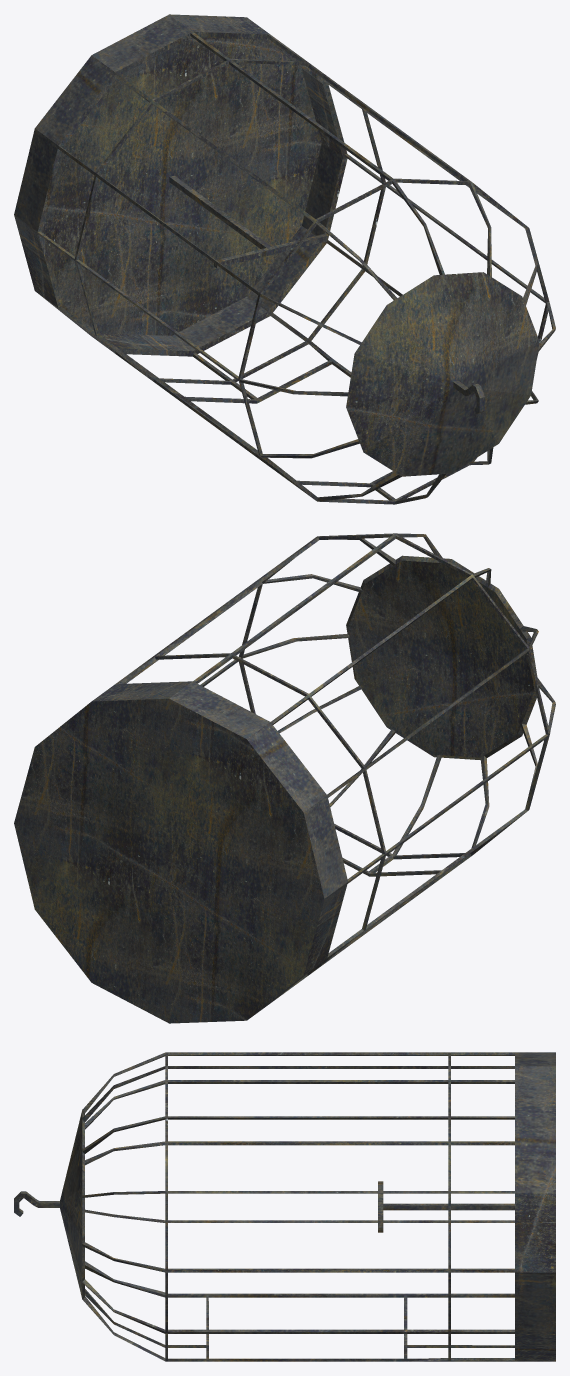
Rendered from Cage.obj.
The picture shows the model from 3 angles, top to bottom: view 1: azimuth 30°, elevation 25°; view 2: azimuth 150°, elevation 25°; view 3: azimuth 270°, elevation 25°; orthographic projection. The views are drawn at different scales.
Parts seen in each view (by area): view 1: Bird_cage; view 2: Bird_cage; view 3: Bird_cage.
Boxes of the visible parts, x1,y1,x2,y2 form: Bird_cage: [14, 14, 555, 504]; Bird_cage: [14, 533, 555, 1023]; Bird_cage: [14, 1052, 555, 1361].
Size of the model in its own units: 46.54 by 46.54 by 81.3.
Materials: 2 (1 with a texture image).
